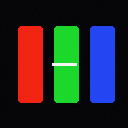3 line_h: (52, 63, 76, 65)
